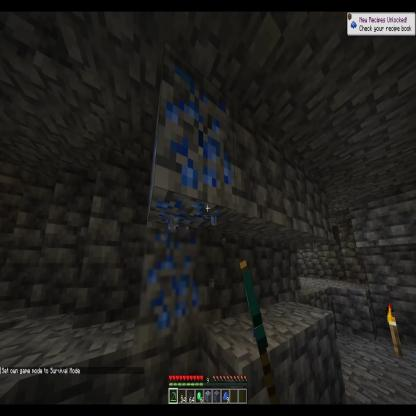lapis ore: (144, 48, 234, 230), (136, 230, 205, 338)
